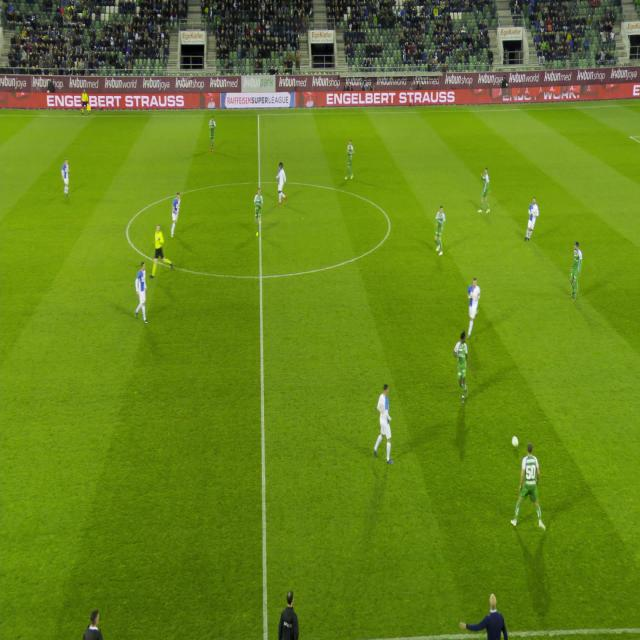Ball: (507, 433, 522, 455)
Player: (509, 443, 550, 533), (367, 381, 402, 466), (450, 326, 472, 413), (564, 235, 586, 310), (465, 272, 484, 344), (522, 191, 544, 253), (133, 261, 152, 328), (272, 152, 292, 214), (55, 148, 74, 212), (472, 163, 494, 215), (169, 186, 187, 247), (433, 194, 447, 268), (252, 182, 266, 248), (344, 134, 359, 195), (206, 114, 220, 158)
Referee: (148, 222, 176, 286), (78, 85, 93, 116)
